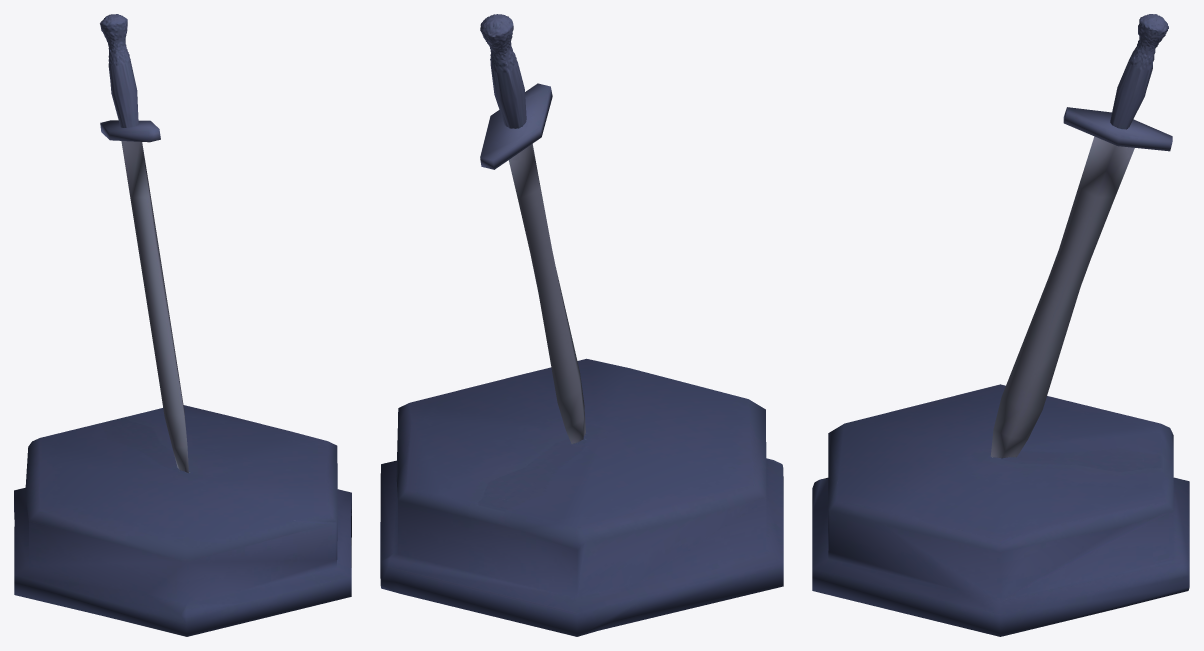
The model's file is metal_nourish_t2.glb.
3 renders of one model, left to right at view 1: azimuth 30°, elevation 25°; view 2: azimuth 150°, elevation 25°; view 3: azimuth 270°, elevation 25°, orthographic. The views are drawn at different scales.
Parts seen in each view (by area): view 1: tripo_node_6e1b8f6a-ba50-47ef-b8db-4b43f3cde6ad; view 2: tripo_node_6e1b8f6a-ba50-47ef-b8db-4b43f3cde6ad; view 3: tripo_node_6e1b8f6a-ba50-47ef-b8db-4b43f3cde6ad.
Boxes of the visible parts, left/top/right/bottom form: tripo_node_6e1b8f6a-ba50-47ef-b8db-4b43f3cde6ad: left=14, top=14, right=351, bottom=636; tripo_node_6e1b8f6a-ba50-47ef-b8db-4b43f3cde6ad: left=380, top=14, right=783, bottom=636; tripo_node_6e1b8f6a-ba50-47ef-b8db-4b43f3cde6ad: left=812, top=14, right=1189, bottom=636.
Size of the model in its own units: 0.7246 by 0.998 by 0.6426.
1 material, 1 textured.
